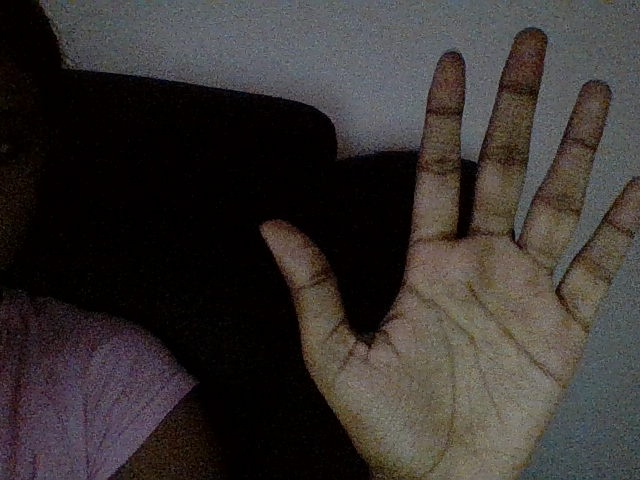Hello: (217, 8, 629, 470)
